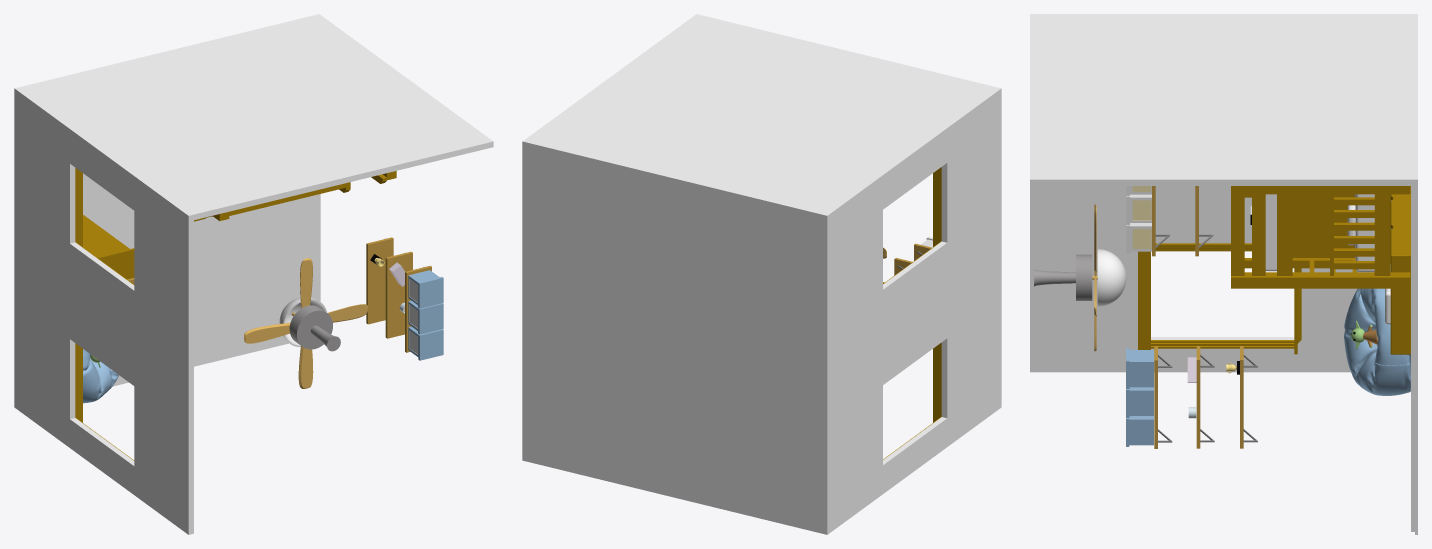
File: Assembly of room.gltf
3 views of the same model, side by side, from view 1: azimuth 30°, elevation 25°; view 2: azimuth 150°, elevation 25°; view 3: azimuth 270°, elevation 25° (orthographic). The views are drawn at different scales.
Visible parts, largest first — view 1: Part 1 (×12), Part 2 (×2), Part 3; view 2: Part 1 (×3), Part 3, Part 2; view 3: Part 1 (×18), Part 2 (×2).
Part boxes in pixels (x1,y1,x2,y2): Part 1 (×12): [14, 14, 493, 534]; Part 2 (×2): [75, 297, 327, 460]; Part 3: [75, 168, 133, 284]; Part 1 (×3): [522, 14, 1001, 534]; Part 3: [883, 167, 941, 283]; Part 2: [883, 342, 941, 459]; Part 1 (×18): [1030, 14, 1417, 534]; Part 2 (×2): [1097, 243, 1301, 354].
Bounding box in the file's own units: 0.14 × 0.14 × 0.1385.
